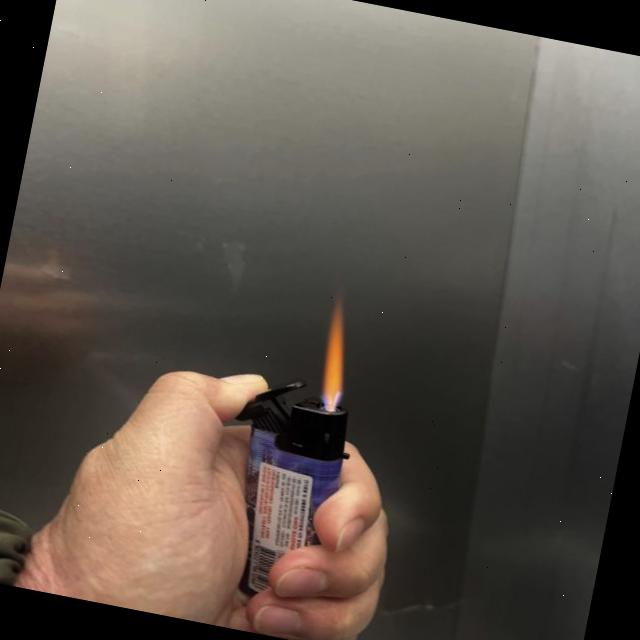fire: (312, 295, 363, 411)
